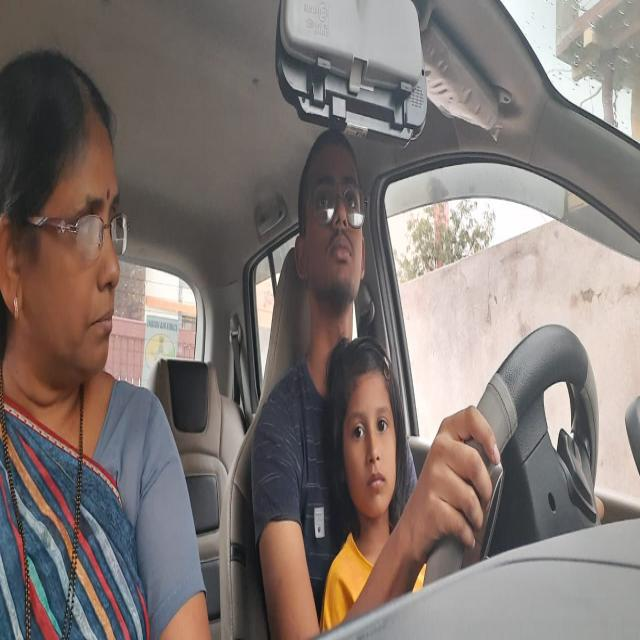child: (322, 333, 404, 518)
person: (0, 39, 126, 392), (295, 118, 371, 320)
